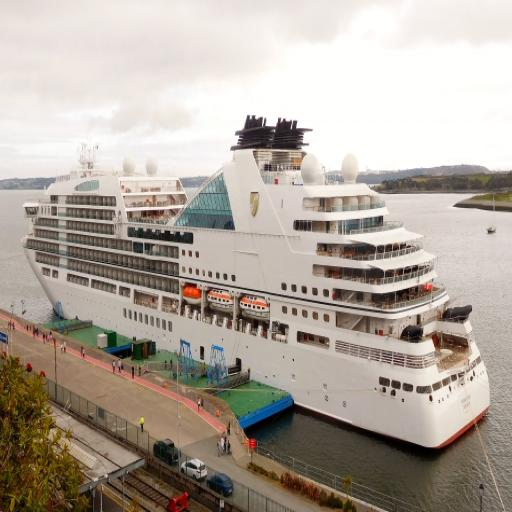cruises: (21, 112, 494, 458)
